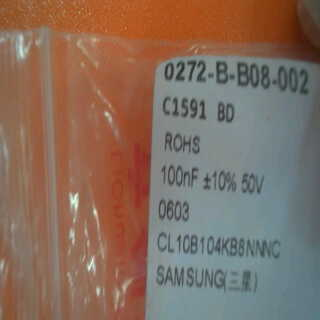100nF: (154, 162, 202, 194)
